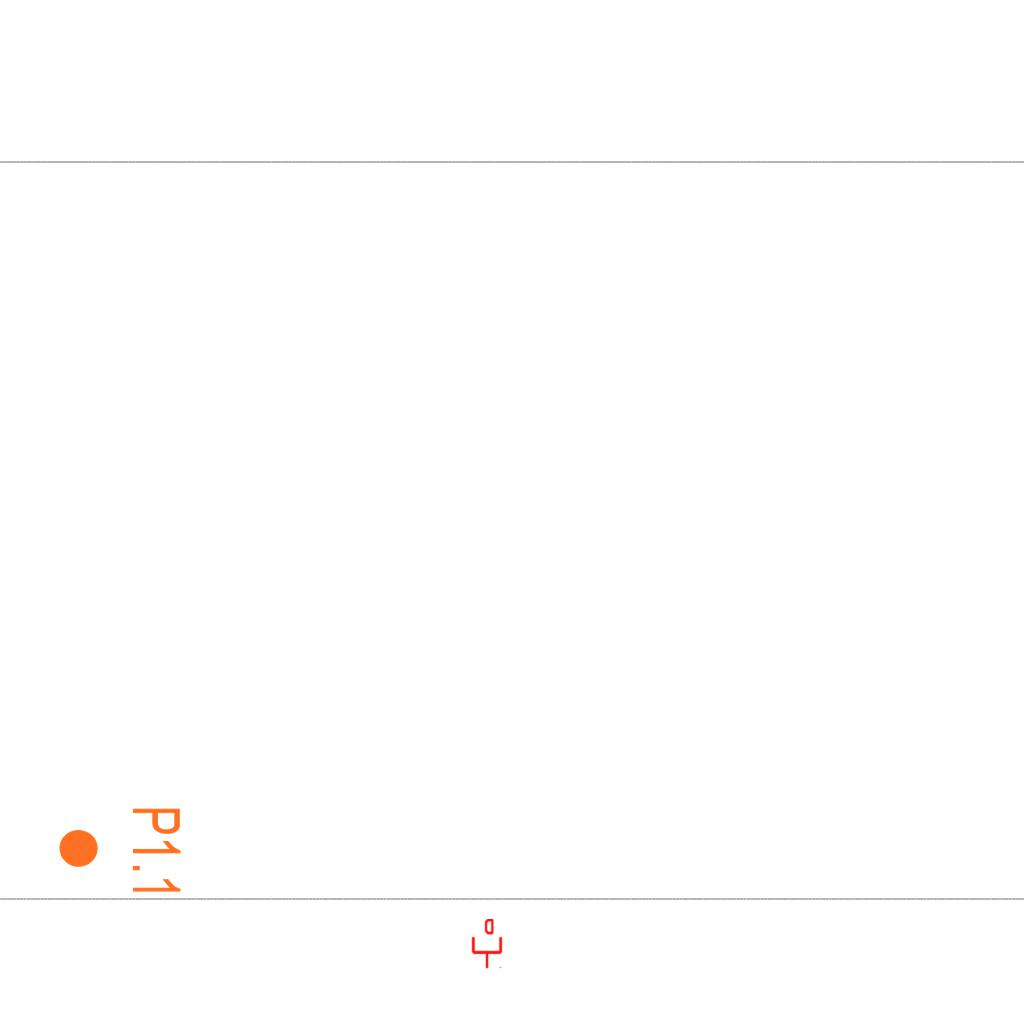Datenanschluss_einfach: (470, 919, 504, 969)
Downlight_LED_Einbauleuchten_Flur: (56, 805, 184, 898)
